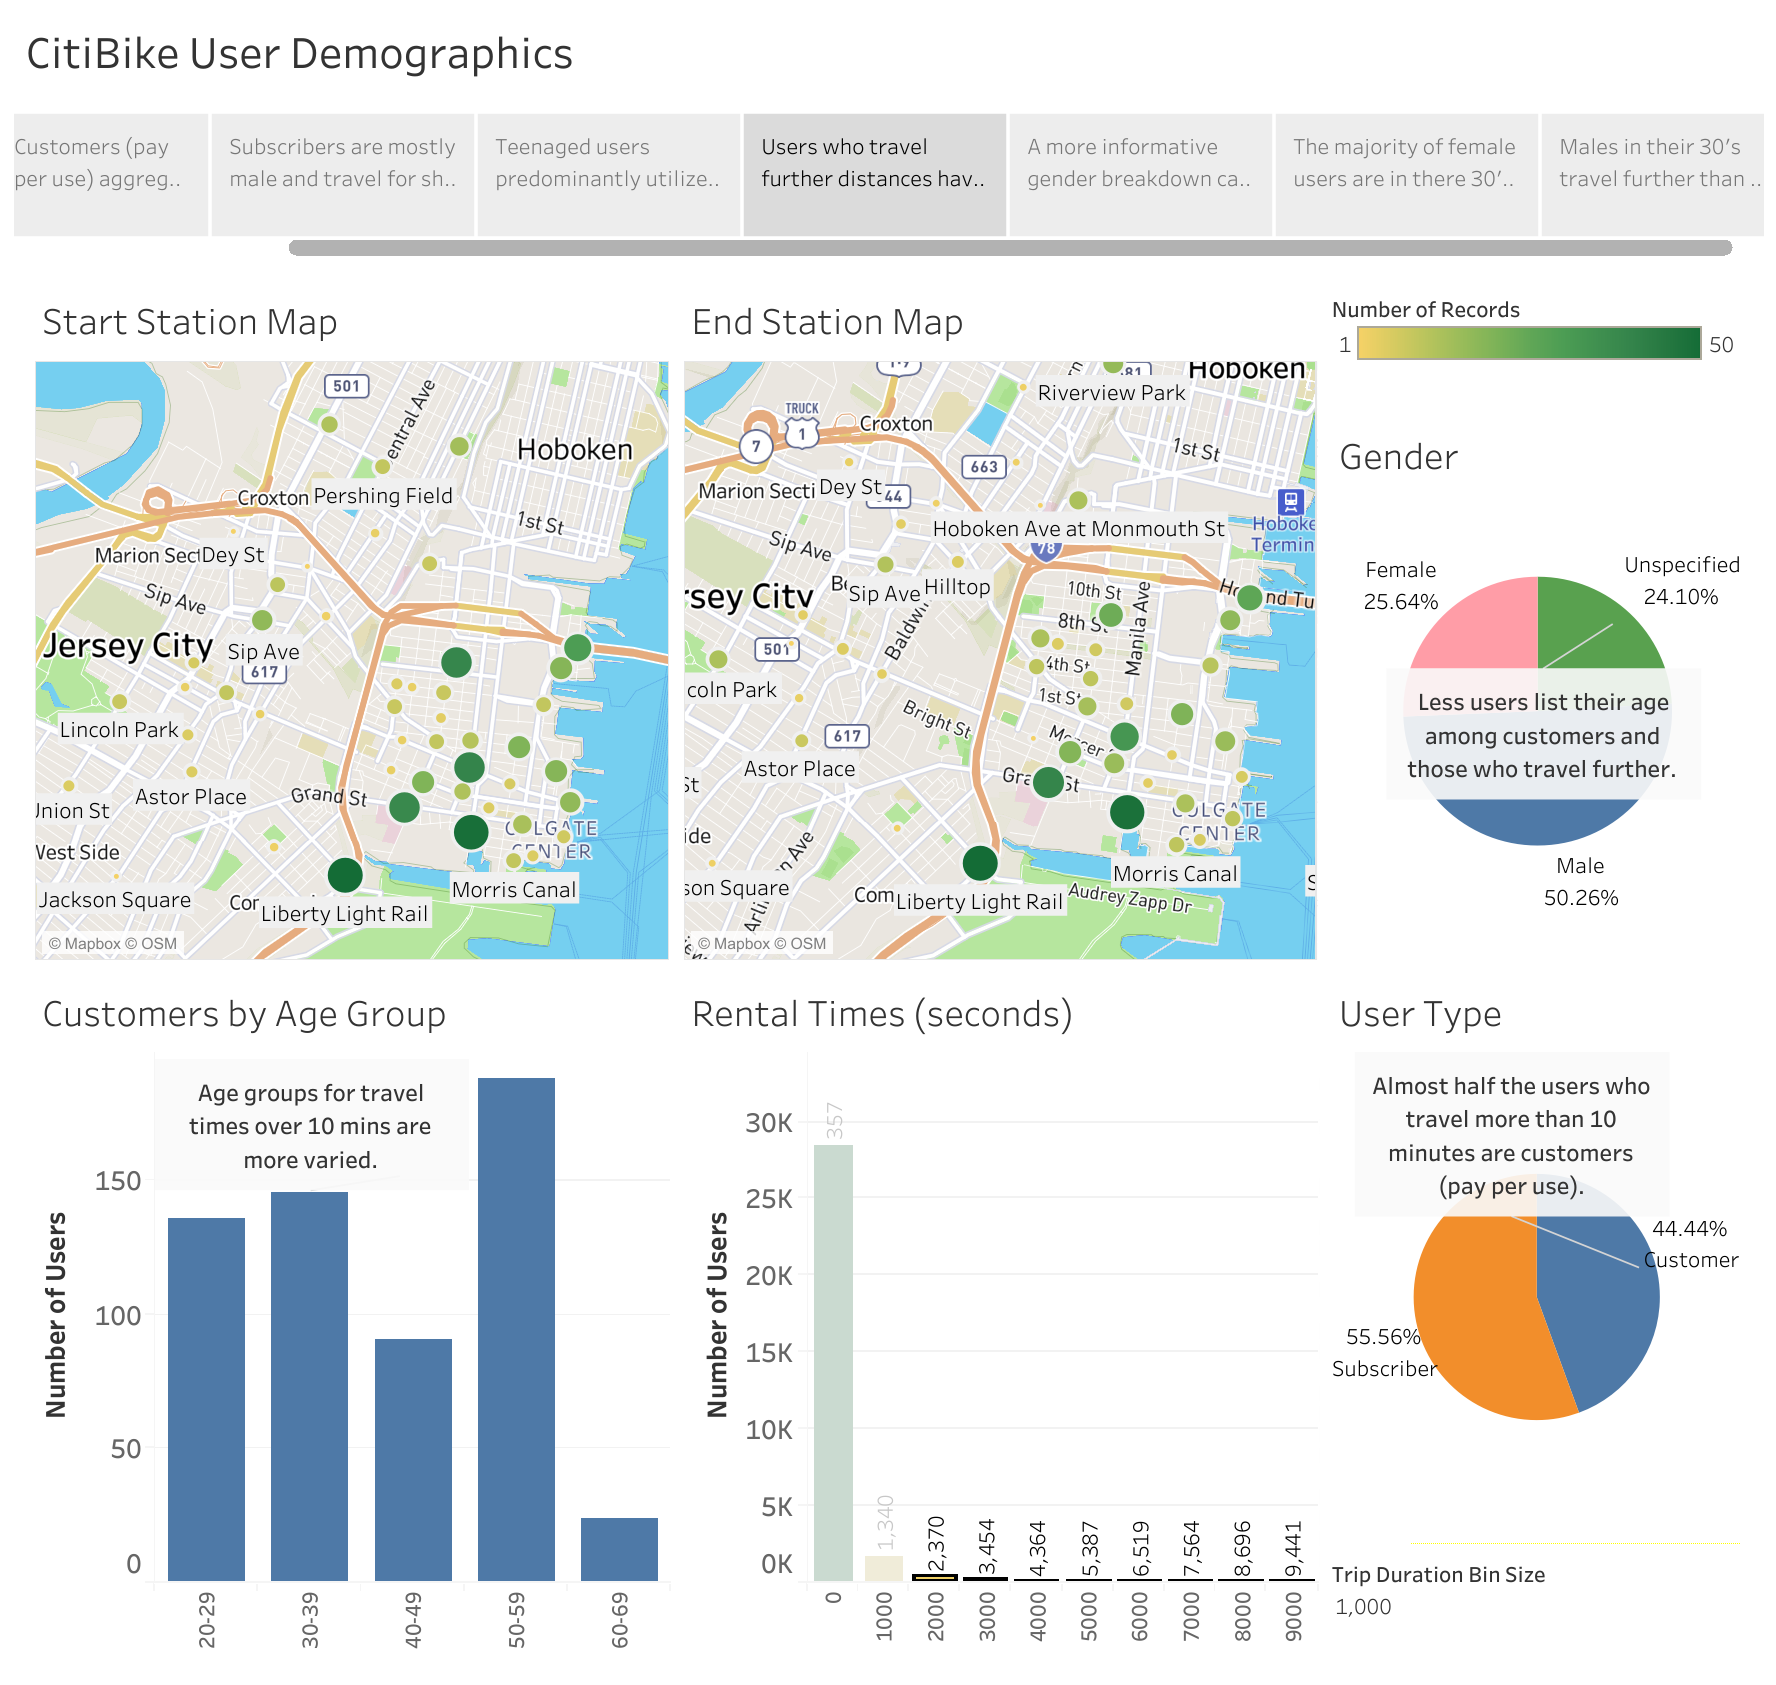

The page's visual inventory and layout, read from the dashboard file:
{"tool":"tableau","page":{"name":"Station DB","canvas":[1000,1000],"units":"permille","ordinal":2},"visuals":[{"type":"worksheet","title":"Start Station Map","mark":"Automatic","rows":["start station latitude"],"cols":["start station longitude"],"box":[6.2,9.6,399.5,490.4]},{"type":"worksheet","title":"End Station Map","mark":"Automatic","rows":["end station latitude"],"cols":["end station longitude"],"box":[405.7,9.6,399.5,490.4]},{"type":"legend","title":"Start Station Map","param":"[federated.1djbkvf0iddfvb16h6xlh0xldu7f].[sum:Number of Records:qk]","box":[805.3,9.6,188.5,92.5]},{"type":"worksheet","title":"Gender","mark":"Pie","box":[805.3,102.2,188.5,358.2]},{"type":"worksheet","title":"Customers by Age Group","mark":"Bar","rows":["Number of Records"],"cols":["Age (bin)"],"box":[6.2,500,399.5,490.4]},{"type":"worksheet","title":"Rental Times","mark":"Automatic","rows":["Number of Records"],"cols":["Tripduration (bin)"],"box":[405.7,500,399.5,490.4]},{"type":"worksheet","title":"User Type","mark":"Pie","box":[805.3,500,188.5,399]},{"type":"parameter","param":"[Parameters].[Parameter 1]","box":[805.3,899,188.5,90.2]}]}

Visuals, with their boxes on the dashboard's canvas, which has no fixed pixel size, in thousandths of its width and height (x1, y1, x2, y2). These are canvas units, not pixel positions in the 1776x1685 screenshot, which may show the page scaled, cropped or inside an application window:
"Start Station Map" worksheet: bbox(6, 10, 406, 500)
"End Station Map" worksheet: bbox(406, 10, 805, 500)
"Start Station Map" legend: bbox(805, 10, 994, 102)
"Gender" worksheet (Pie marks): bbox(805, 102, 994, 460)
"Customers by Age Group" worksheet (Bar marks): bbox(6, 500, 406, 990)
"Rental Times" worksheet: bbox(406, 500, 805, 990)
"User Type" worksheet (Pie marks): bbox(805, 500, 994, 899)
parameter: bbox(805, 899, 994, 989)
